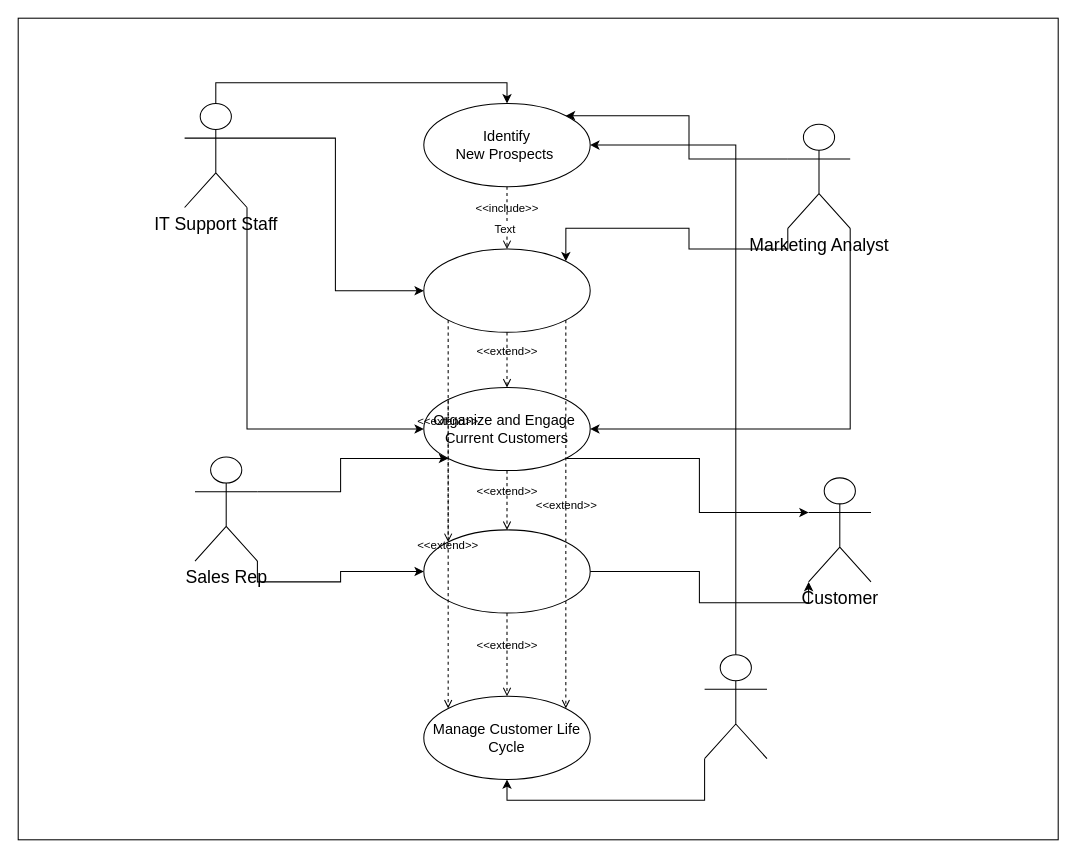
Some shapes in this 1076 by 858 pixel diagram are drawn without their labels. The shapes that lost their labels are listed below. From the top down, each one's box as (x1, y1, x2, y2) in pixels, then its label:
(423, 248, 590, 332): Track and Monitor Sales Opportunities
(423, 529, 590, 613): Establish a Relationship with Current Customers
(704, 654, 767, 759): Data Sceintist
